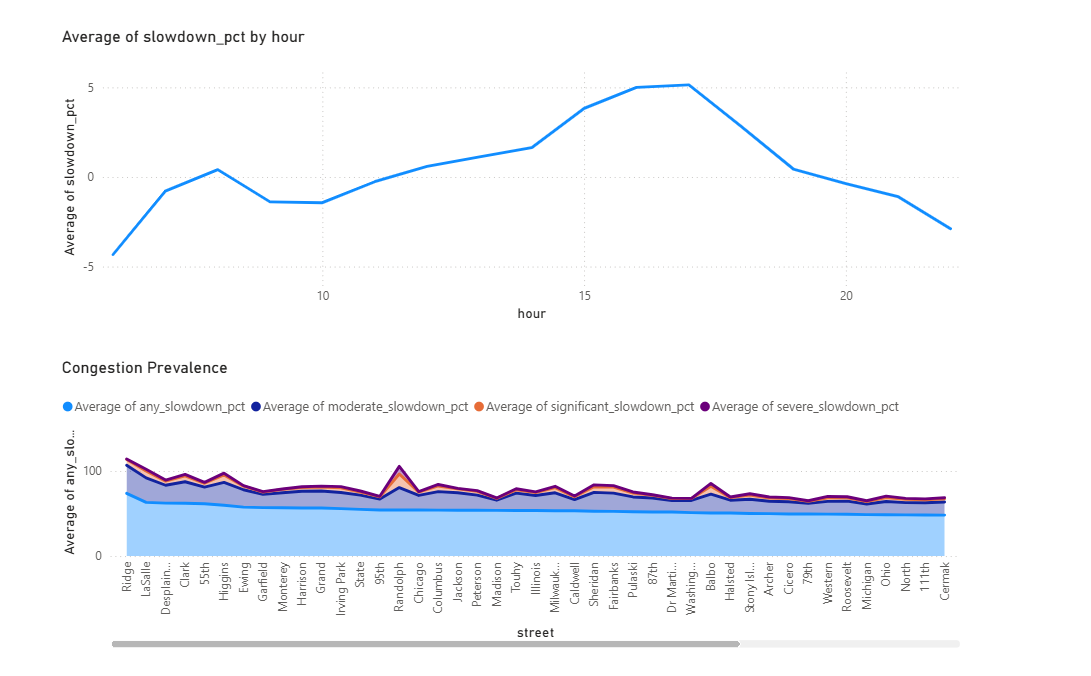

This screenshot's page, from the dashboard's own definition file:
{"tool":"powerbi","page":{"name":"Time Analysis","canvas":[1280,720],"ordinal":1},"visuals":[{"type":"lineChart","fields":{"Category":["slowdown.hour"],"Y":["Avg(slowdown.slowdown_pct)"]},"box":[77.7,38.3,940.3,309.6],"z":0},{"type":"stackedAreaChart","title":"Congestion Prevalence","fields":{"Y":["Avg(segment_summary.any_slowdown_pct)","Avg(segment_summary.moderate_slowdown_pct)","Avg(segment_summary.significant_slowdown_pct)","Avg(segment_summary.severe_slowdown_pct)"],"Category":["segment_summary.street"]},"box":[77.7,381.1,940.3,305.5],"z":1000}]}

Visuals, with their boxes on the page's 1280x720 design canvas (x1, y1, x2, y2). These are canvas units, not pixel positions in the 1091x676 screenshot, which may show the page scaled, cropped or inside an application window:
lineChart - slowdown.hour x Avg(slowdown.slowdown_pct): bbox=[78, 38, 1018, 348]
"Congestion Prevalence" stackedAreaChart: bbox=[78, 381, 1018, 687]
